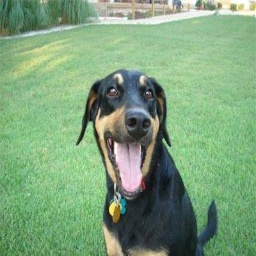dog: (74, 65, 223, 256)
